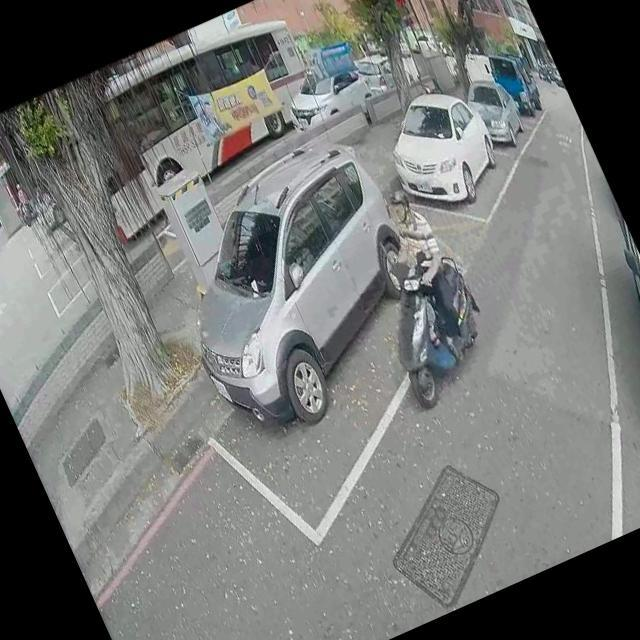person: (349, 174, 489, 370), (8, 178, 37, 224)
